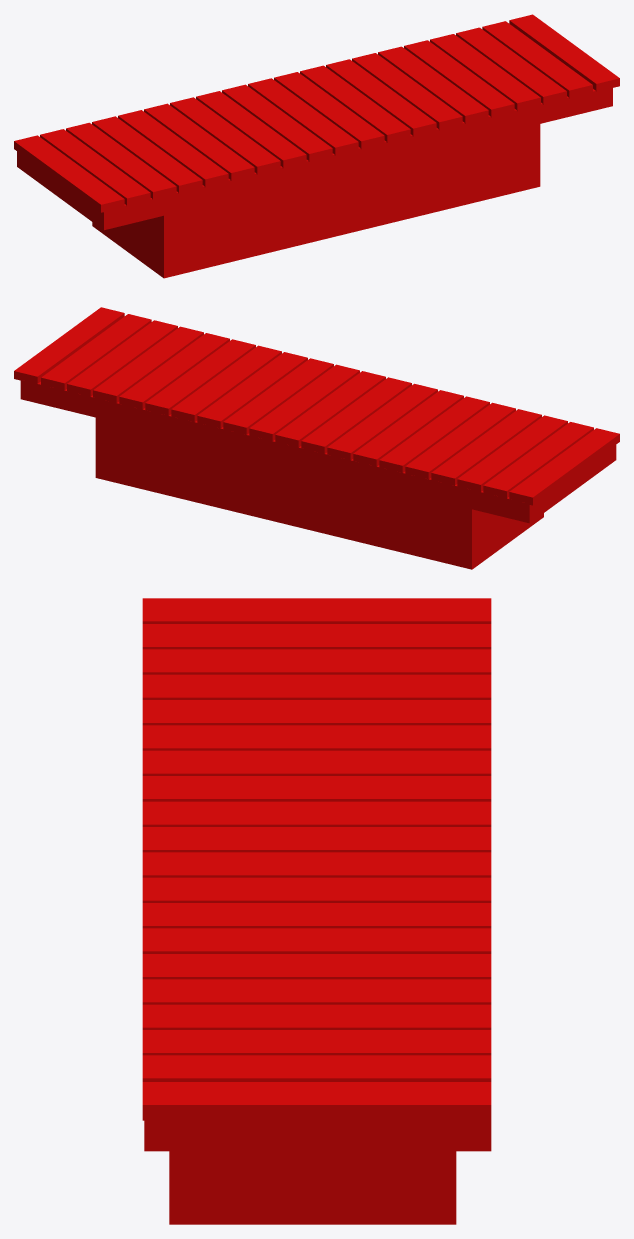
File: Conveyor_Belt_01_Lod0.fbx
3 views of the same model, one above another, from view 1: azimuth 30°, elevation 25°; view 2: azimuth 150°, elevation 25°; view 3: azimuth 270°, elevation 25° (orthographic). The views are drawn at different scales.
Parts seen in each view (by area): view 1: Conveyor_Belt_01_Lod0; view 2: Conveyor_Belt_01_Lod0; view 3: Conveyor_Belt_01_Lod0.
Boxes of the visible parts, x1,y1,x2,y2 form: Conveyor_Belt_01_Lod0: (14, 14, 619, 278); Conveyor_Belt_01_Lod0: (14, 307, 619, 569); Conveyor_Belt_01_Lod0: (142, 598, 491, 1224).
Size of the model in its own units: 461 by 81.02 by 134.
